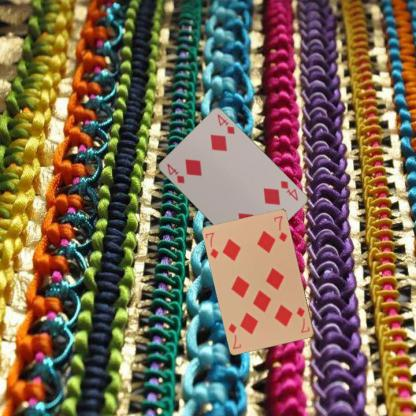4d: (164, 161, 186, 185), (278, 178, 300, 202)
7d: (294, 304, 311, 334), (203, 230, 220, 260)
